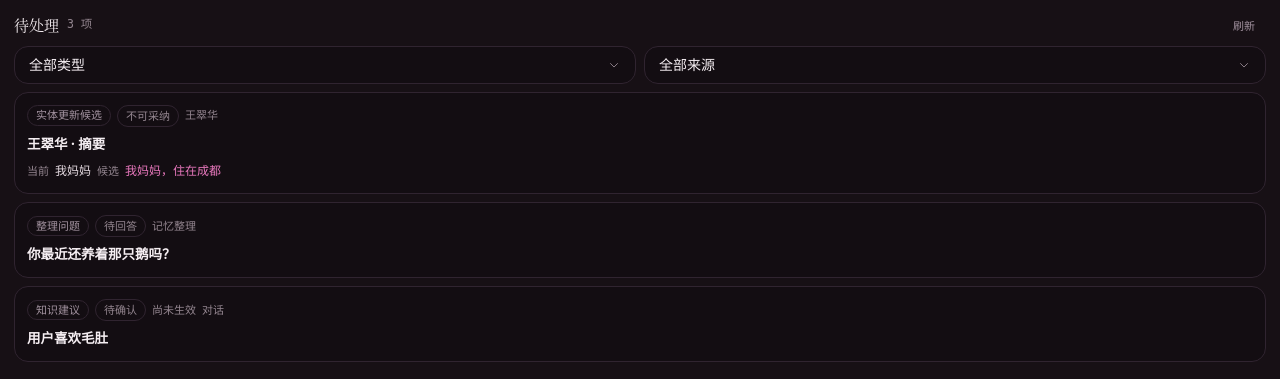
Scenario: PendingItems 实体更新候选动作（采纳 / 丢弃） › 不可采纳的候选禁用采纳按钮但允许丢弃
The image size is (1280, 379).
Step 1. Click the button "实体更新候选 不可采纳 王翠华 王翠华 · 摘要 当前 我妈妈 候选 我妈妈，住在成都" → (69, 116), box [14,92,1266,194]
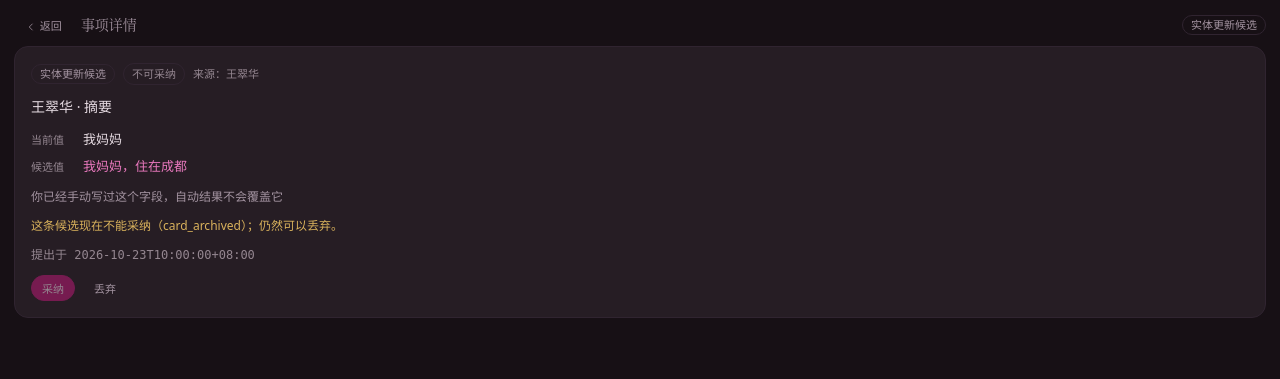
Now the button "采纳" is disabled, box [31,275,75,301]
Now the button "丢弃" is enabled, box [83,275,127,301]
